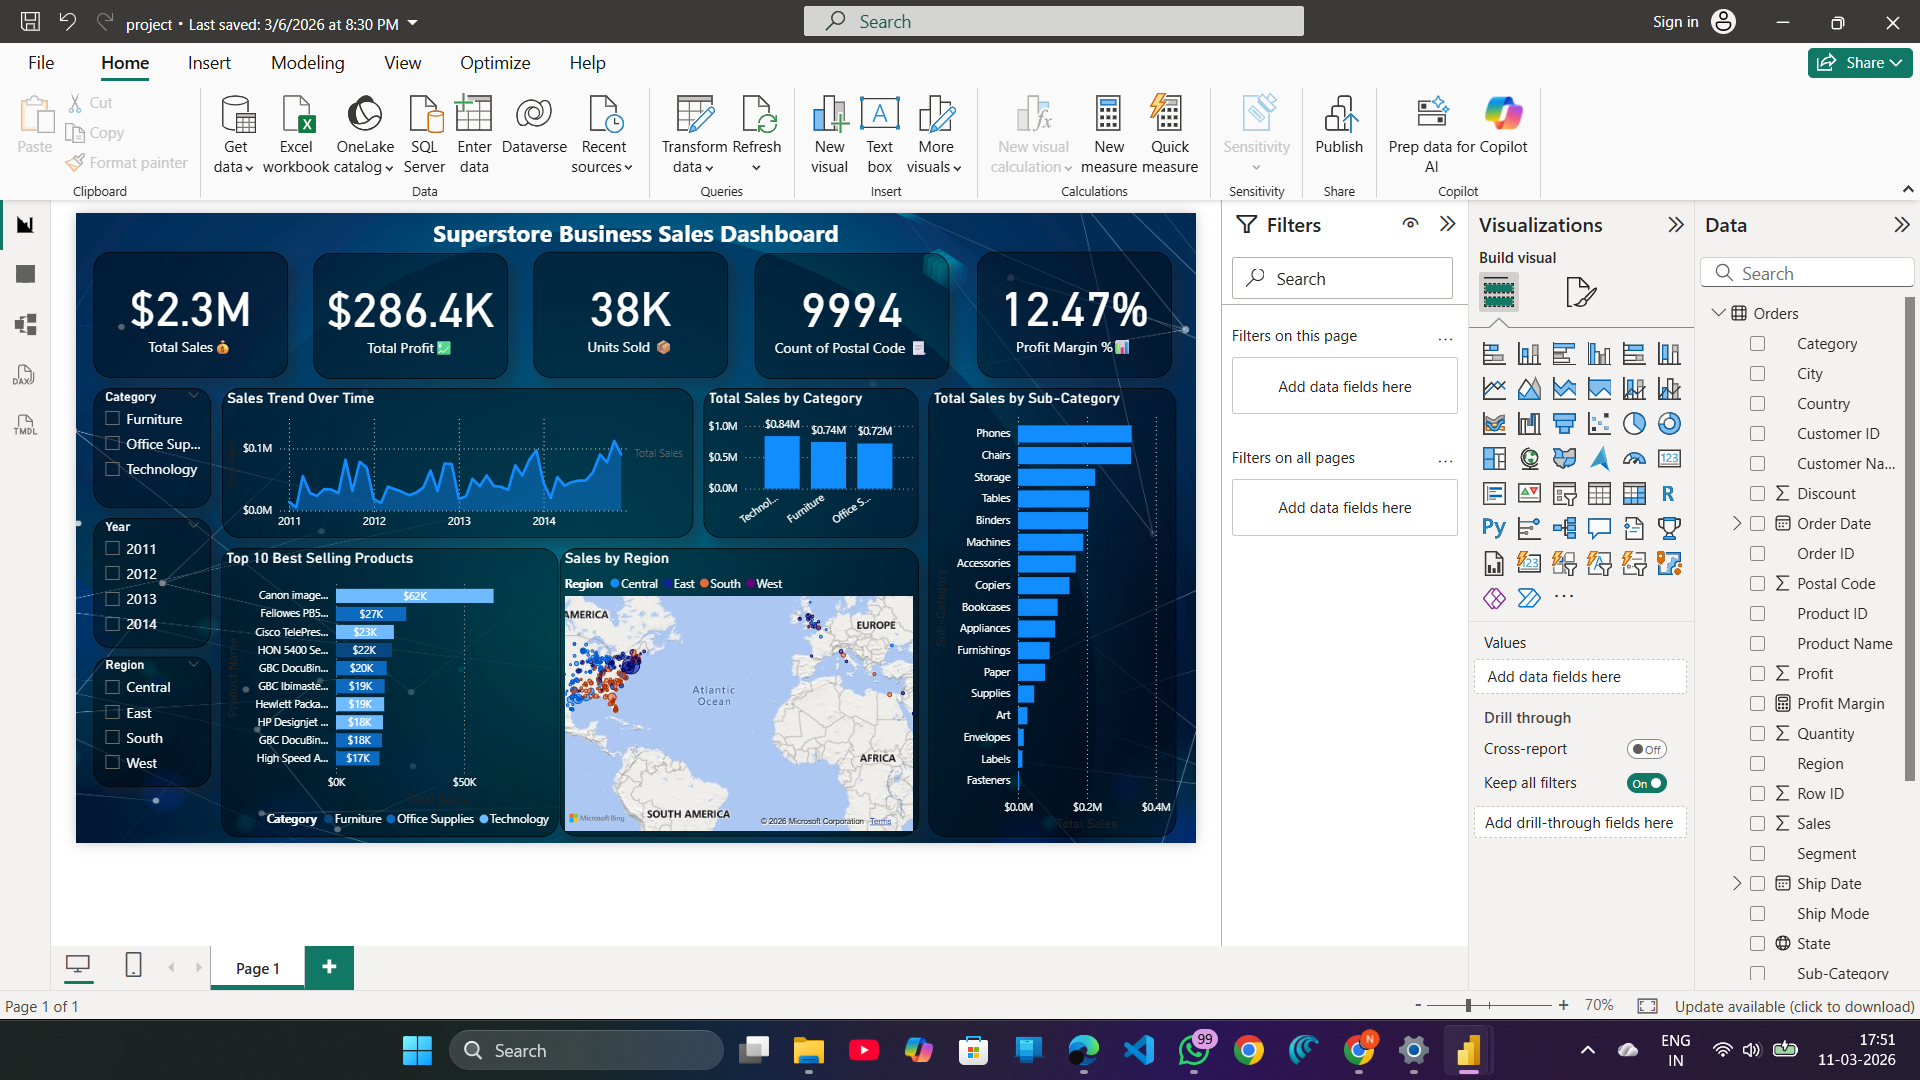

What the dashboard file says about the page in this screenshot:
{"tool":"powerbi","page":{"name":"Page 1","canvas":[1280,720],"ordinal":0},"visuals":[{"type":"textbox","box":[0,0,1280.3,54.9],"z":0},{"type":"card","fields":{"Values":["Orders.Total Sales"]},"box":[20,45,222,144.3],"z":1000},{"type":"card","fields":{"Values":["Orders.Total Profit"]},"box":[271,45.7,222,144.3],"z":2000},{"type":"card","fields":{"Values":["CountNonNull(Orders.Postal Code)"]},"box":[776,45.7,222,144.3],"z":3000},{"type":"card","fields":{"Values":["Sum(Orders.Quantity)"]},"box":[523,45,222,144.3],"z":4000},{"type":"card","fields":{"Values":["Orders.Profit Margin"]},"box":[1030,45,222,144.3],"z":5000},{"type":"barChart","title":"Top 10 Best Selling Products","fields":{"Y":["Orders.Total Sales"],"Category":["Orders.Product Name"],"Series":["Orders.Category"]},"box":[165.7,382.9,385.7,330],"z":6000},{"type":"clusteredColumnChart","fields":{"Category":["Orders.Category"],"Y":["Orders.Total Sales"]},"box":[717.1,200,245.7,171.4],"z":7000},{"type":"barChart","fields":{"Category":["Orders.Sub-Category"],"Y":["Orders.Total Sales"]},"box":[973.9,199.7,283.1,512.9],"z":8000},{"type":"slicer","fields":{"Values":["Orders.Order Date.Variation.Date Hierarchy.Year"]},"box":[20.5,348.8,134,149.1],"z":9000},{"type":"slicer","fields":{"Values":["Orders.Category"]},"box":[20.5,199.7,134,136.8],"z":10000},{"type":"slicer","fields":{"Values":["People.Region"]},"box":[20.5,507.5,134,149.1],"z":11000},{"type":"lineChart","title":"Sales Trend Over Time","fields":{"Category":["Orders.Order Date.Variation.Date Hierarchy.Year","Orders.Order Date.Variation.Date Hierarchy.Quarter","Orders.Order Date.Variation.Date Hierarchy.Month"],"Y":["Orders.Total Sales"]},"box":[167.1,200,538.6,171.4],"z":12000},{"type":"map","title":"Sales by Region","fields":{"Size":["Orders.Total Sales"],"Category":["Orders.City"],"Series":["Orders.Region"]},"box":[552.6,383,410.3,329.6],"z":13000}]}

Visuals, with their boxes on the page's 1280x720 design canvas (x1, y1, x2, y2). These are canvas units, not pixel positions in the 1920x1080 screenshot, which may show the page scaled, cropped or inside an application window:
textbox: 0/0/1280/55
card - Orders.Total Sales: 20/45/242/189
card - Orders.Total Profit: 271/46/493/190
card - CountNonNull(Orders.Postal Code): 776/46/998/190
card - Sum(Orders.Quantity): 523/45/745/189
card - Orders.Profit Margin: 1030/45/1252/189
"Top 10 Best Selling Products" barChart: 166/383/551/713
clusteredColumnChart - Orders.Category x Orders.Total Sales: 717/200/963/371
barChart - Orders.Sub-Category x Orders.Total Sales: 974/200/1257/713
slicer - Orders.Order Date.Variation.Date Hierarchy.Year: 20/349/154/498
slicer - Orders.Category: 20/200/154/336
slicer - People.Region: 20/508/154/657
"Sales Trend Over Time" lineChart: 167/200/706/371
"Sales by Region" map: 553/383/963/713
